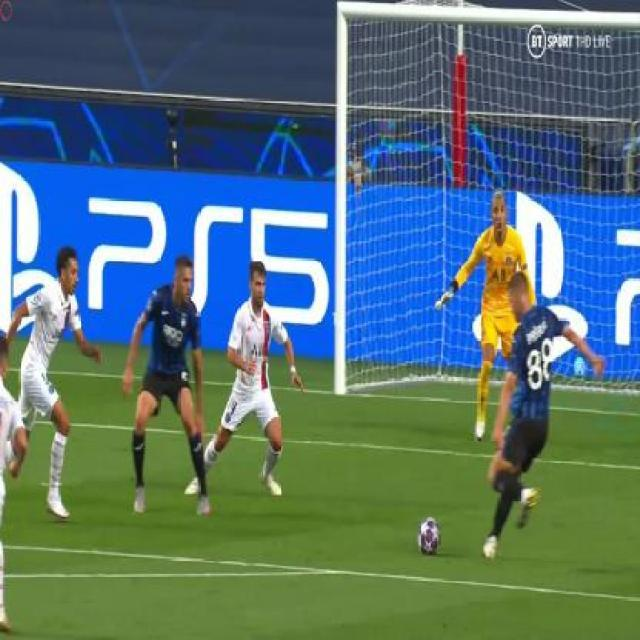ball: (415, 512, 443, 566)
player: (469, 275, 608, 568), (5, 250, 104, 538), (435, 191, 543, 444), (204, 252, 304, 517), (122, 258, 213, 523)
